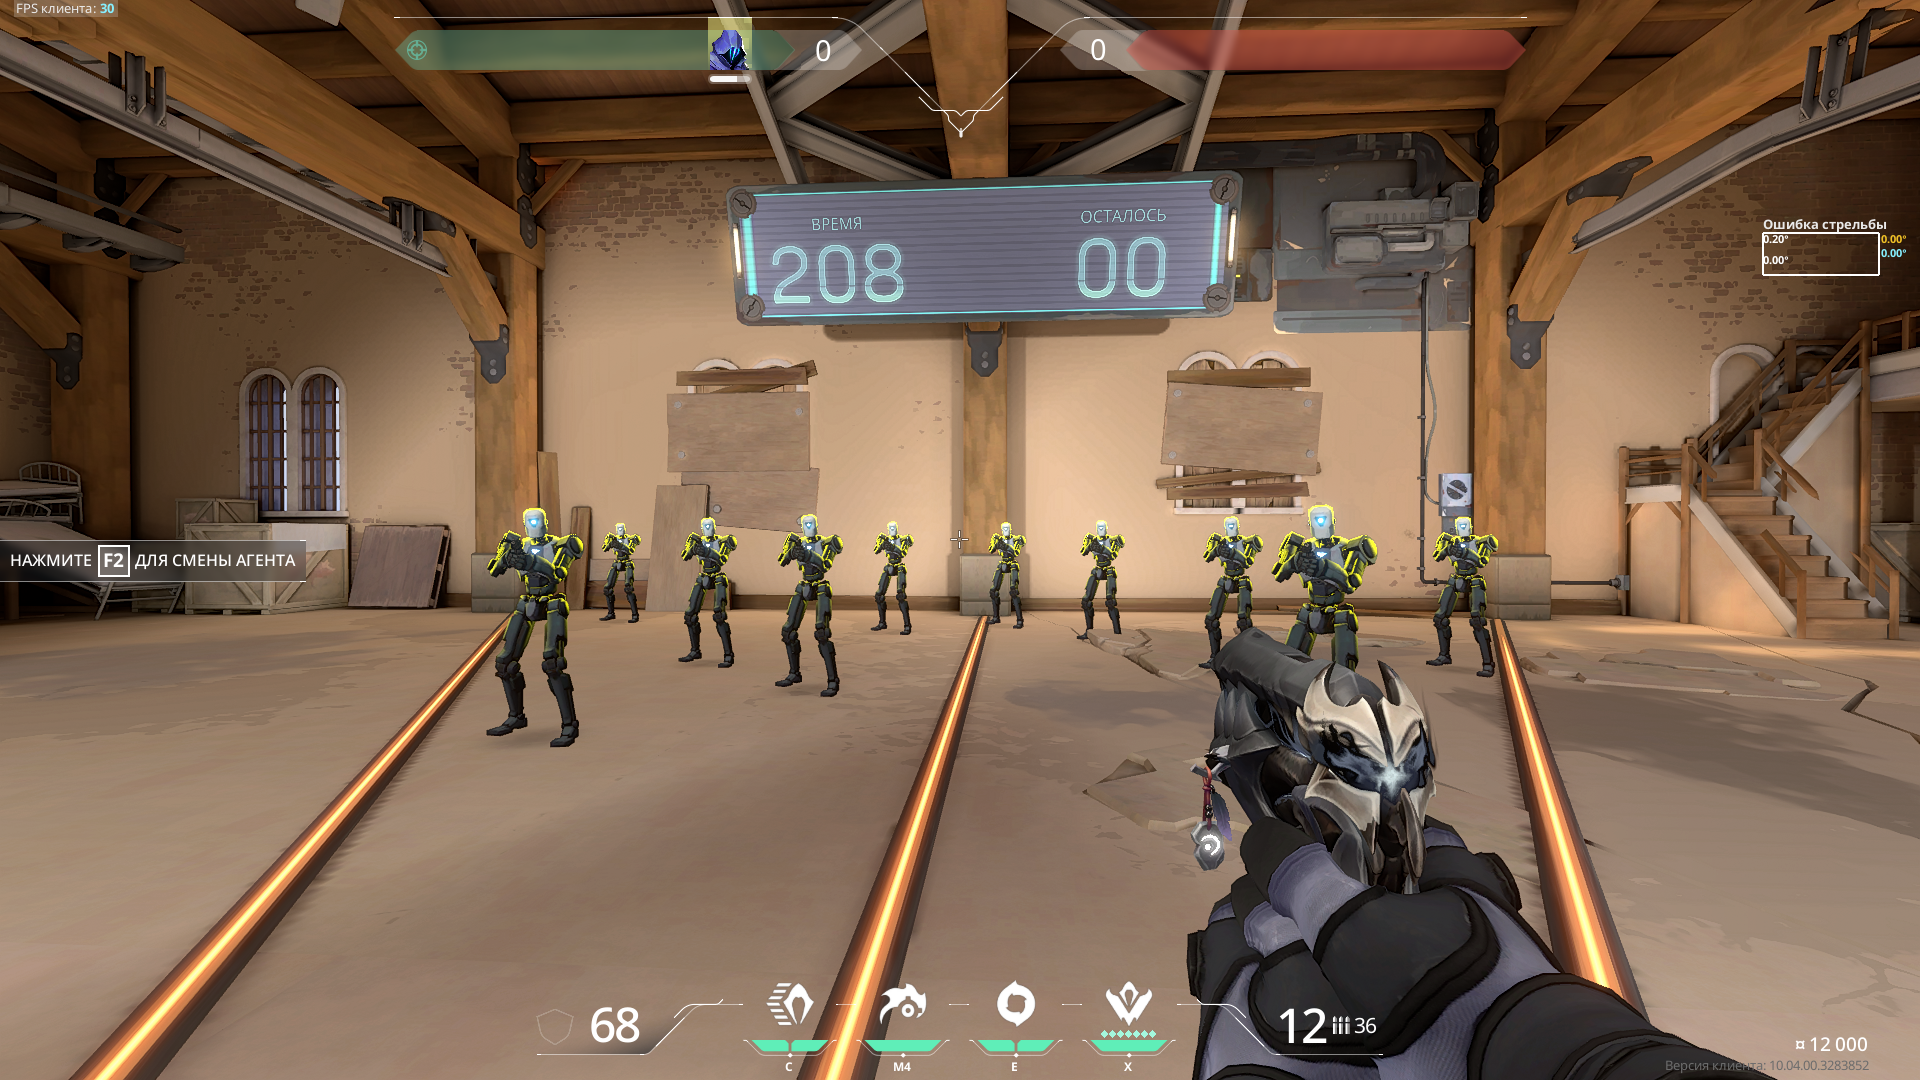head: (1308, 505, 1335, 539), (523, 508, 548, 538), (1455, 517, 1472, 537), (802, 515, 817, 537), (1224, 518, 1239, 537), (701, 518, 716, 536), (1096, 521, 1107, 536), (888, 522, 898, 536), (616, 523, 626, 536), (1001, 523, 1011, 536)
